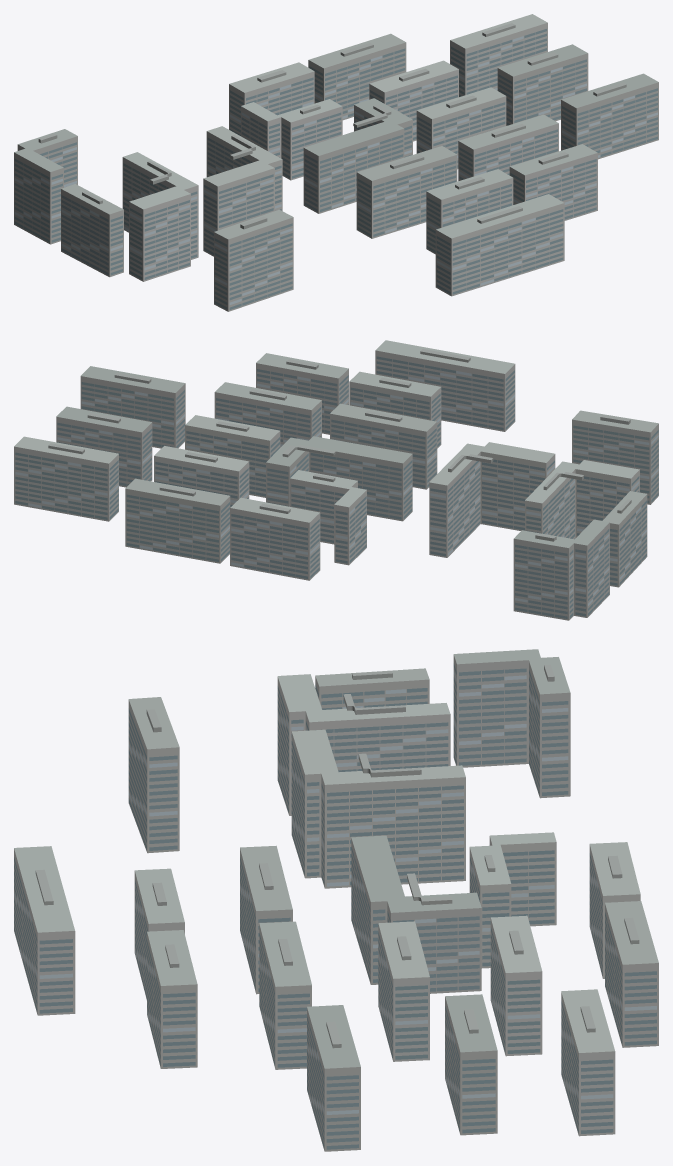
Rendered from apt-a13202312.glb.
The picture shows the model from 3 angles, top to bottom: view 1: azimuth 30°, elevation 25°; view 2: azimuth 150°, elevation 25°; view 3: azimuth 270°, elevation 25°; orthographic projection. The views are drawn at different scales.
Parts seen in each view (by area): view 1: apt-a13202312; view 2: apt-a13202312; view 3: apt-a13202312.
Boxes of the visible parts, <box> form: apt-a13202312: <box>14,14,658,311</box>; apt-a13202312: <box>14,340,658,620</box>; apt-a13202312: <box>14,649,658,1151</box>.
Size of the model in its own units: 377 by 47.81 by 258.
